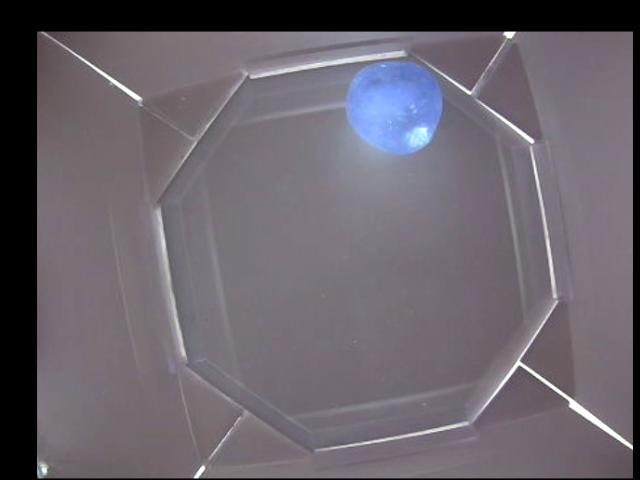Potato: (347, 61, 442, 154)
